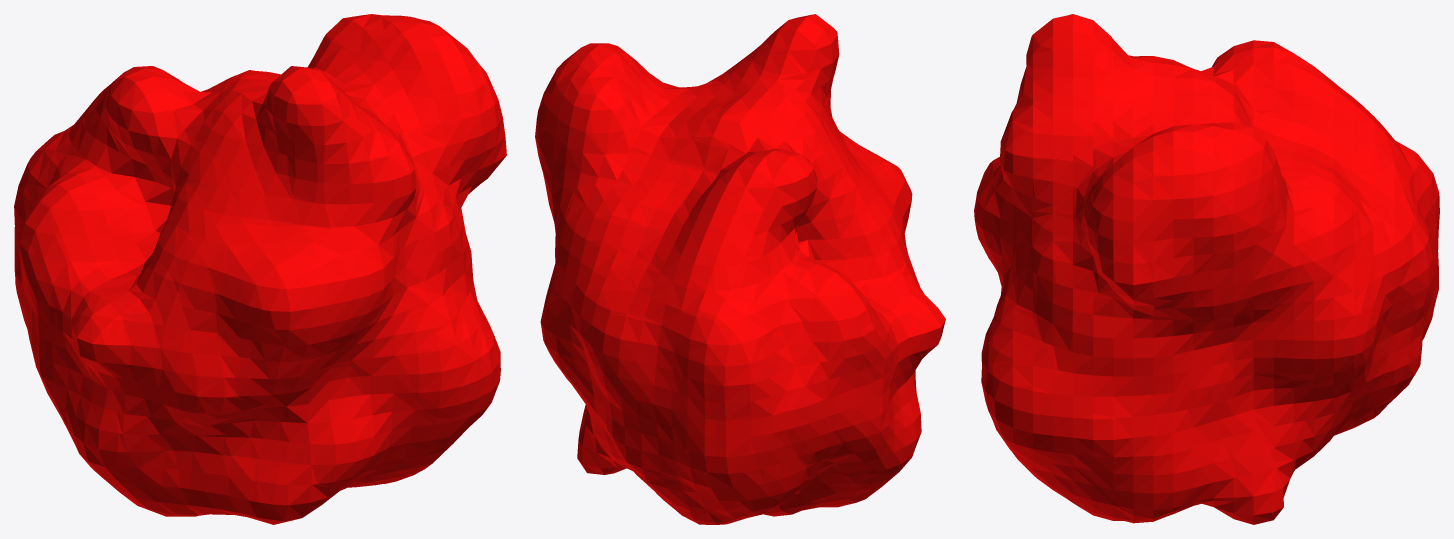
Rendered from rihA_coarse.dae.
3 renders of one model, left to right at view 1: azimuth 30°, elevation 25°; view 2: azimuth 150°, elevation 25°; view 3: azimuth 270°, elevation 25°, orthographic. The views are drawn at different scales.
Visible parts, largest first — view 1: rihA; view 2: rihA; view 3: rihA.
Boxes of the visible parts, bbox=[...] form: rihA: bbox=[14, 14, 506, 524]; rihA: bbox=[535, 14, 945, 524]; rihA: bbox=[974, 14, 1439, 524].
Size of the model in its own units: 50.53 by 53.73 by 48.99.
